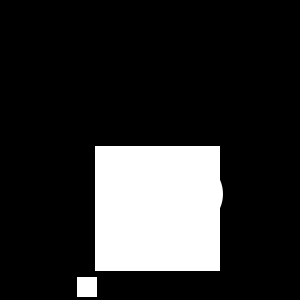circle: (95, 146, 220, 271), (77, 277, 97, 297)
rectangle: (153, 159, 223, 229)
